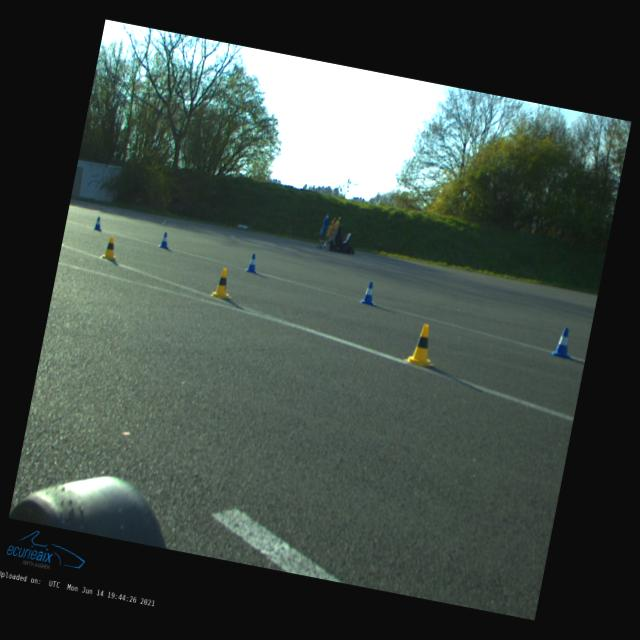blue_cone: (550, 326, 574, 359), (359, 280, 380, 306), (246, 252, 260, 274), (158, 232, 172, 250), (94, 216, 104, 232), (324, 212, 331, 222)
yellow_cone: (404, 321, 442, 368), (210, 266, 237, 300), (101, 235, 121, 262), (336, 216, 342, 224), (328, 220, 333, 228)
